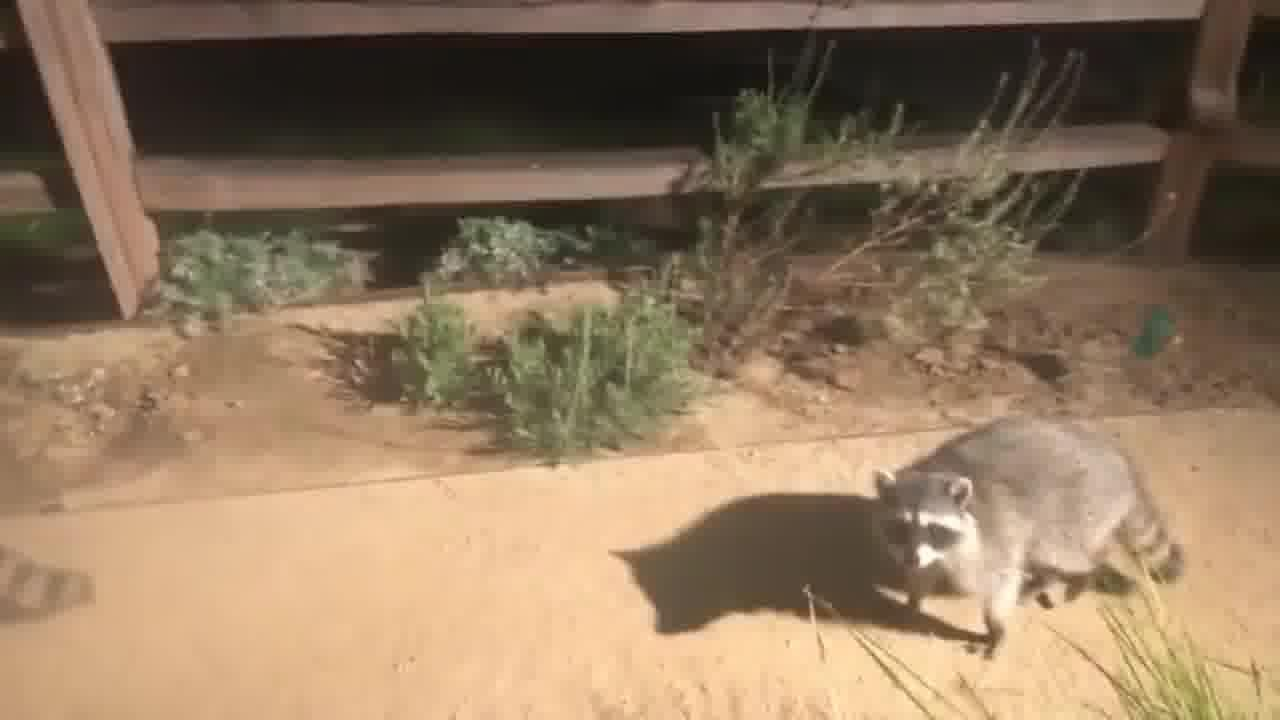raccoon: (865, 415, 1191, 661)
